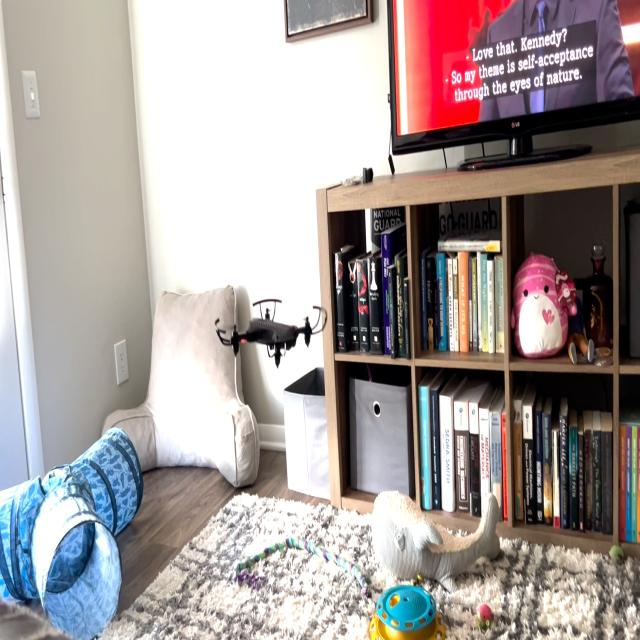drone: (207, 286, 332, 378)
